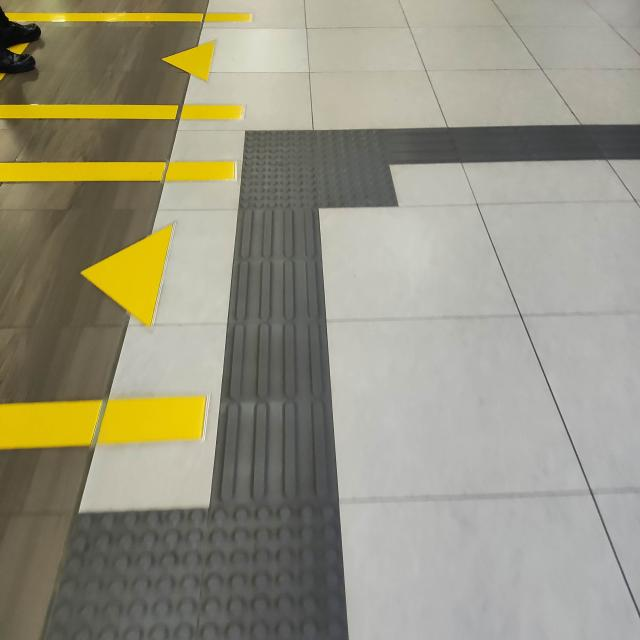kanan: (219, 107, 536, 233)
